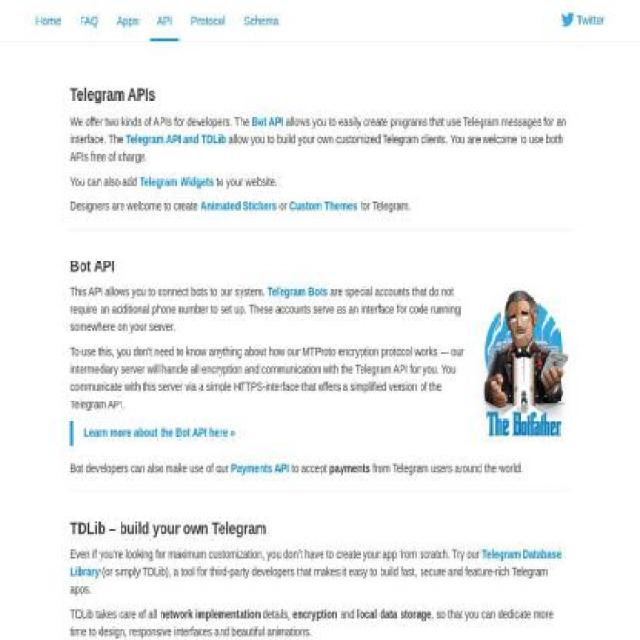button: (551, 0, 613, 38), (182, 0, 236, 40), (234, 0, 288, 40), (26, 0, 71, 40), (107, 0, 148, 40), (70, 0, 108, 40), (148, 0, 182, 40)
